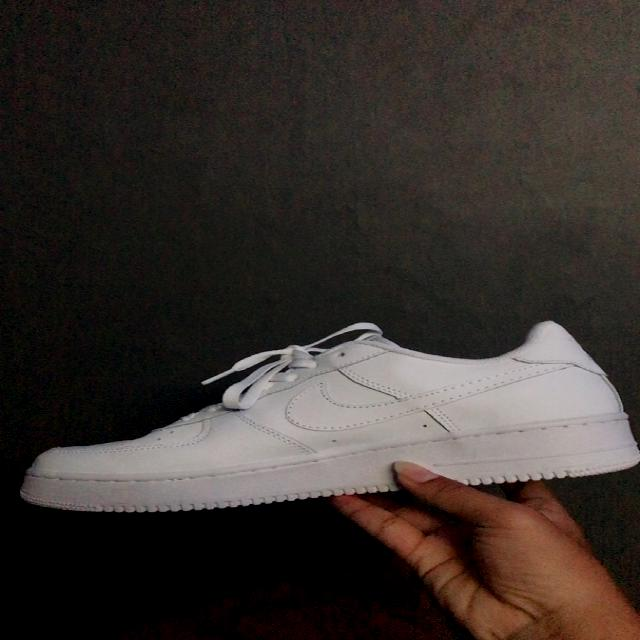nike_fake_airforce: (7, 312, 640, 516)
